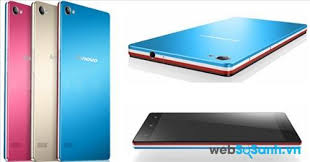lenovo: (55, 1, 110, 162), (127, 107, 303, 145)
